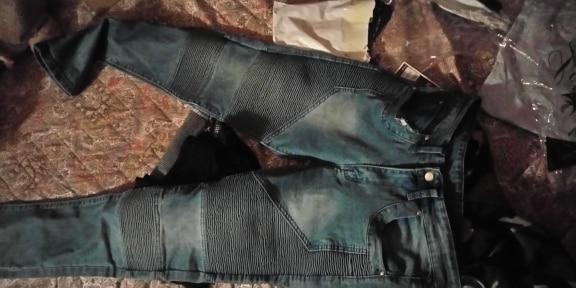jeans: (34, 19, 474, 288)
